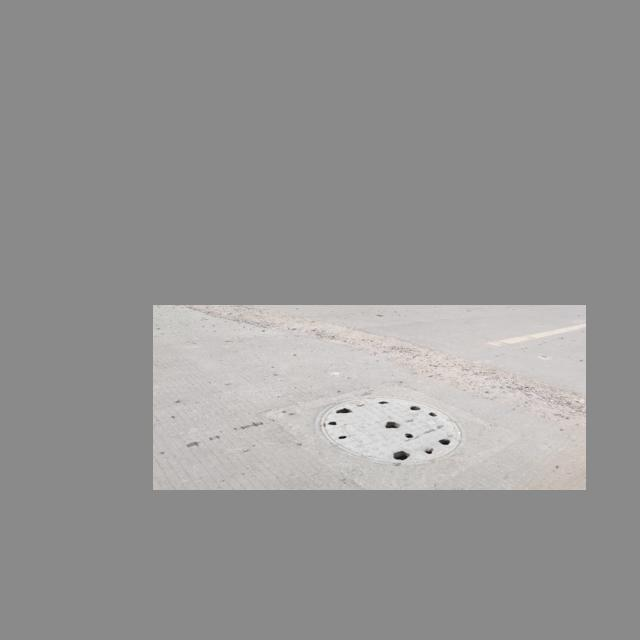broke: (317, 395, 466, 463)
